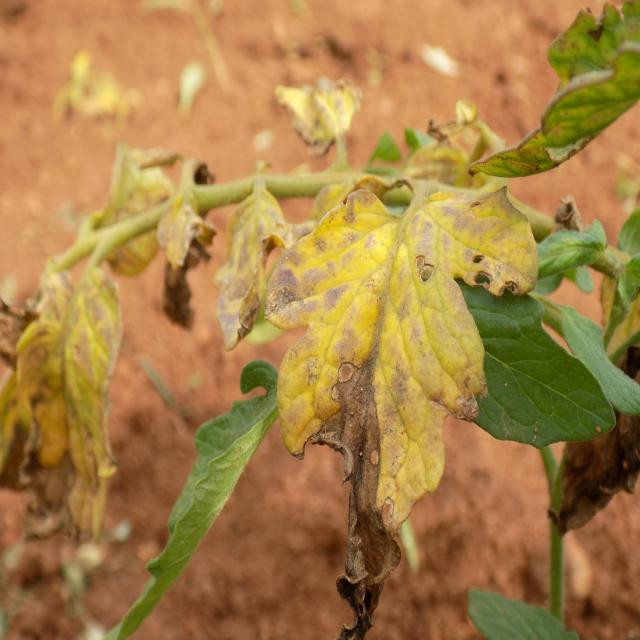tomato_early blight: (267, 187, 485, 528), (0, 257, 121, 546), (477, 0, 640, 176), (213, 181, 297, 348), (394, 96, 519, 204), (100, 143, 193, 270), (275, 77, 369, 157)
